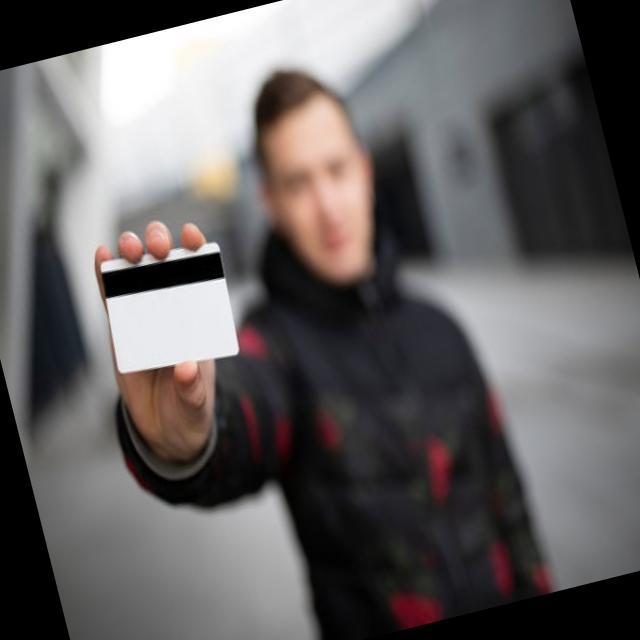payment_card: (98, 240, 240, 375)
